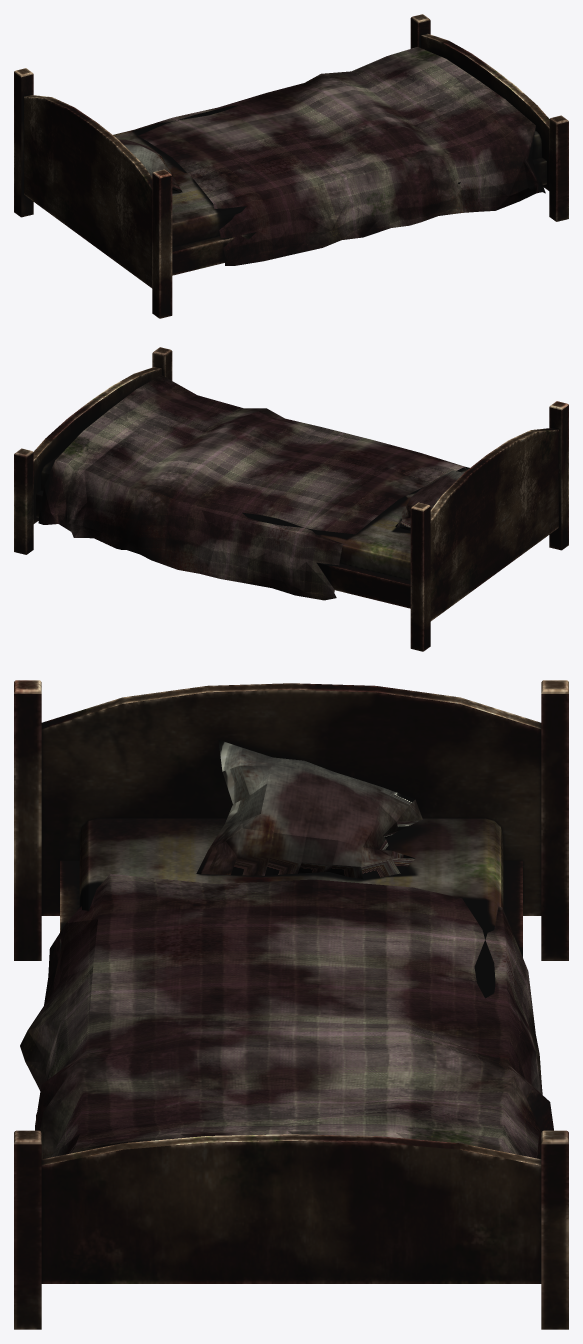
Rendered from BED.fbx.
The picture shows the model from 3 angles, top to bottom: view 1: azimuth 30°, elevation 25°; view 2: azimuth 150°, elevation 25°; view 3: azimuth 270°, elevation 25°; orthographic projection. The views are drawn at different scales.
Parts seen in each view (by area): view 1: OLD BED; view 2: OLD BED; view 3: OLD BED.
Boxes of the visible parts, x1,y1,x2,y2 form: OLD BED: (14, 14, 568, 318); OLD BED: (14, 347, 568, 651); OLD BED: (14, 680, 568, 1329).
Bounding box in the file's own units: 1244 × 412 × 767.
